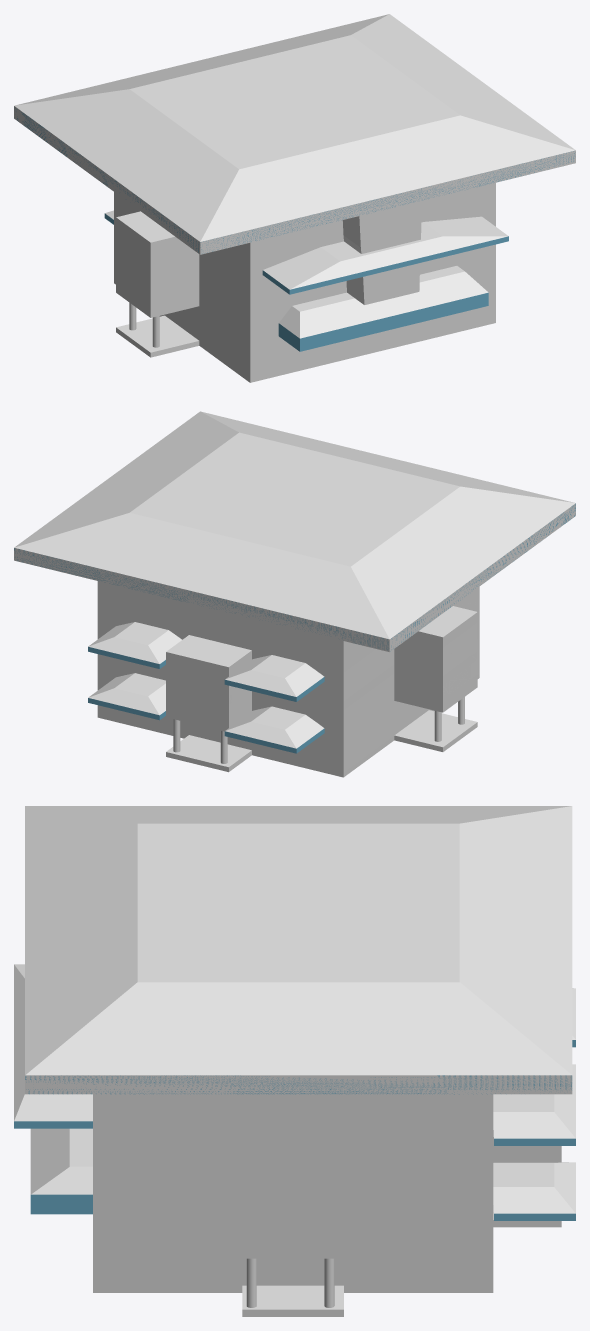
The picture shows the model from 3 angles, top to bottom: view 1: azimuth 30°, elevation 25°; view 2: azimuth 150°, elevation 25°; view 3: azimuth 270°, elevation 25°; orthographic projection. The views are drawn at different scales.
Visible parts, largest first — view 1: Cube.006; view 2: Cube.006; view 3: Cube.006.
Part boxes in pixels (bbox=[...]): Cube.006: bbox=[14, 14, 575, 382]; Cube.006: bbox=[14, 411, 575, 777]; Cube.006: bbox=[14, 806, 575, 1316].
Size of the model in its own units: 6115 by 3133 by 5391.
